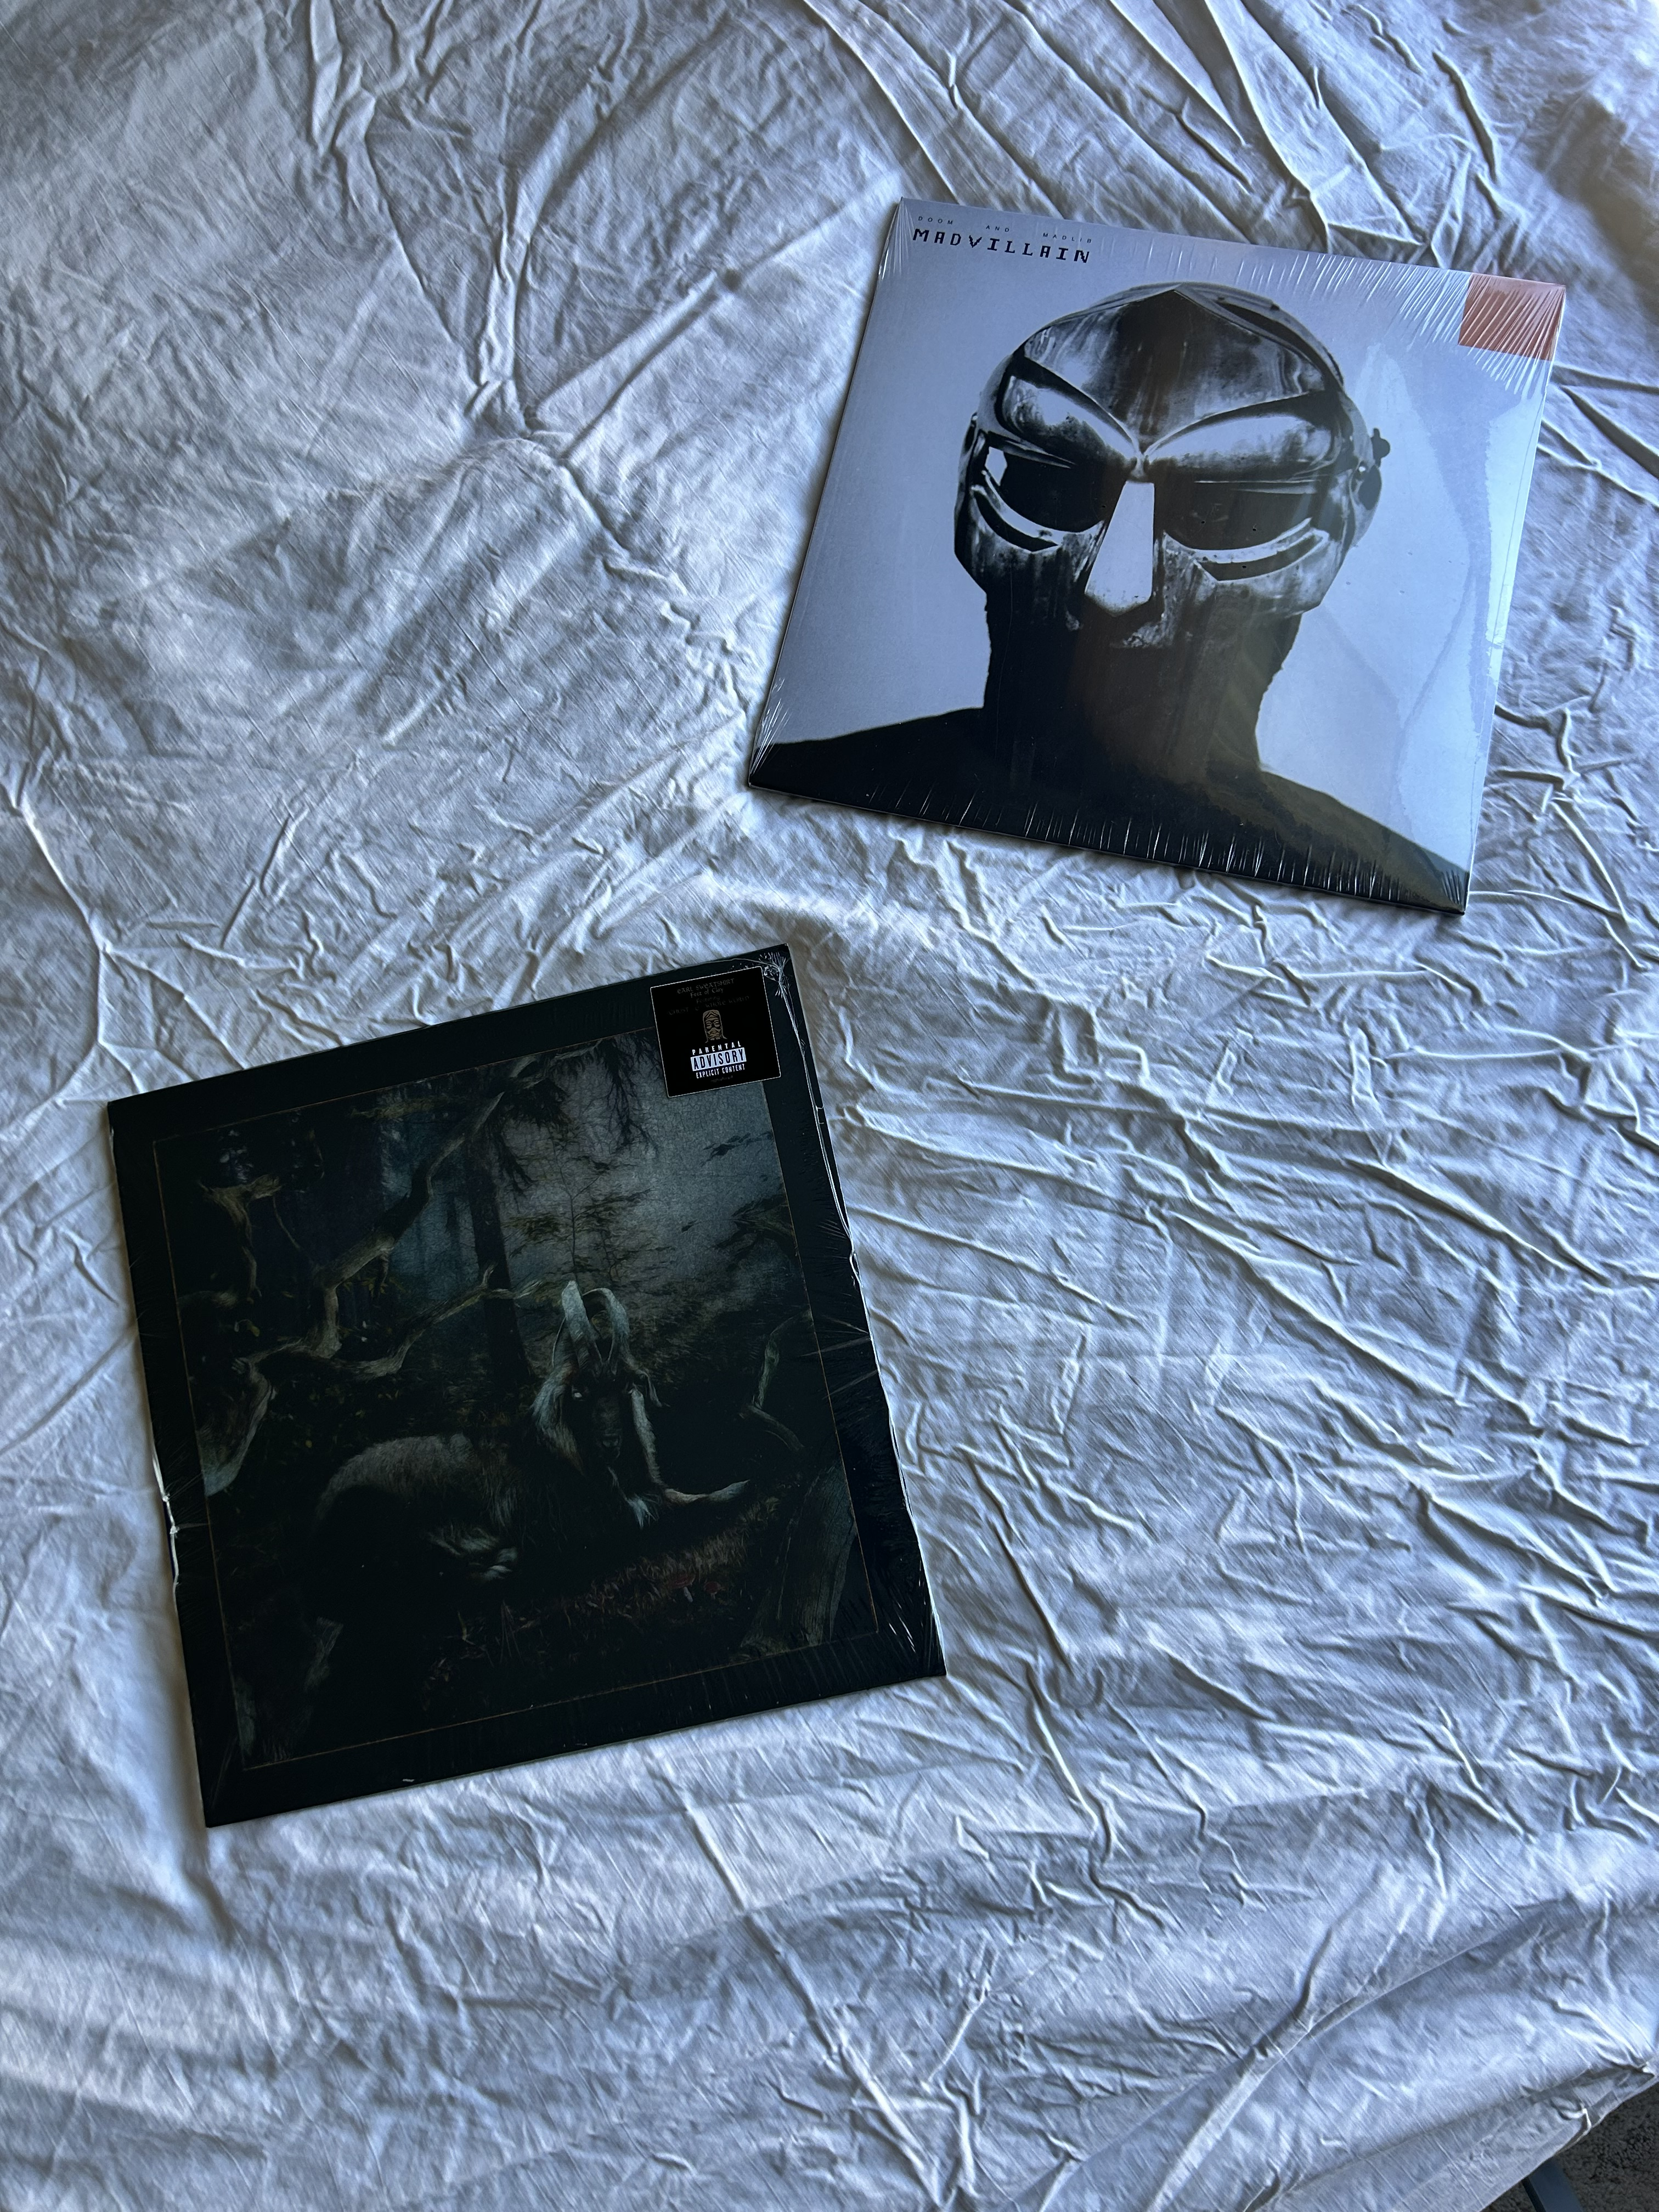earl sweatchirt_feet of clay: (49, 1085, 835, 1865)
madvillain_madvillainy: (875, 131, 1619, 803)
